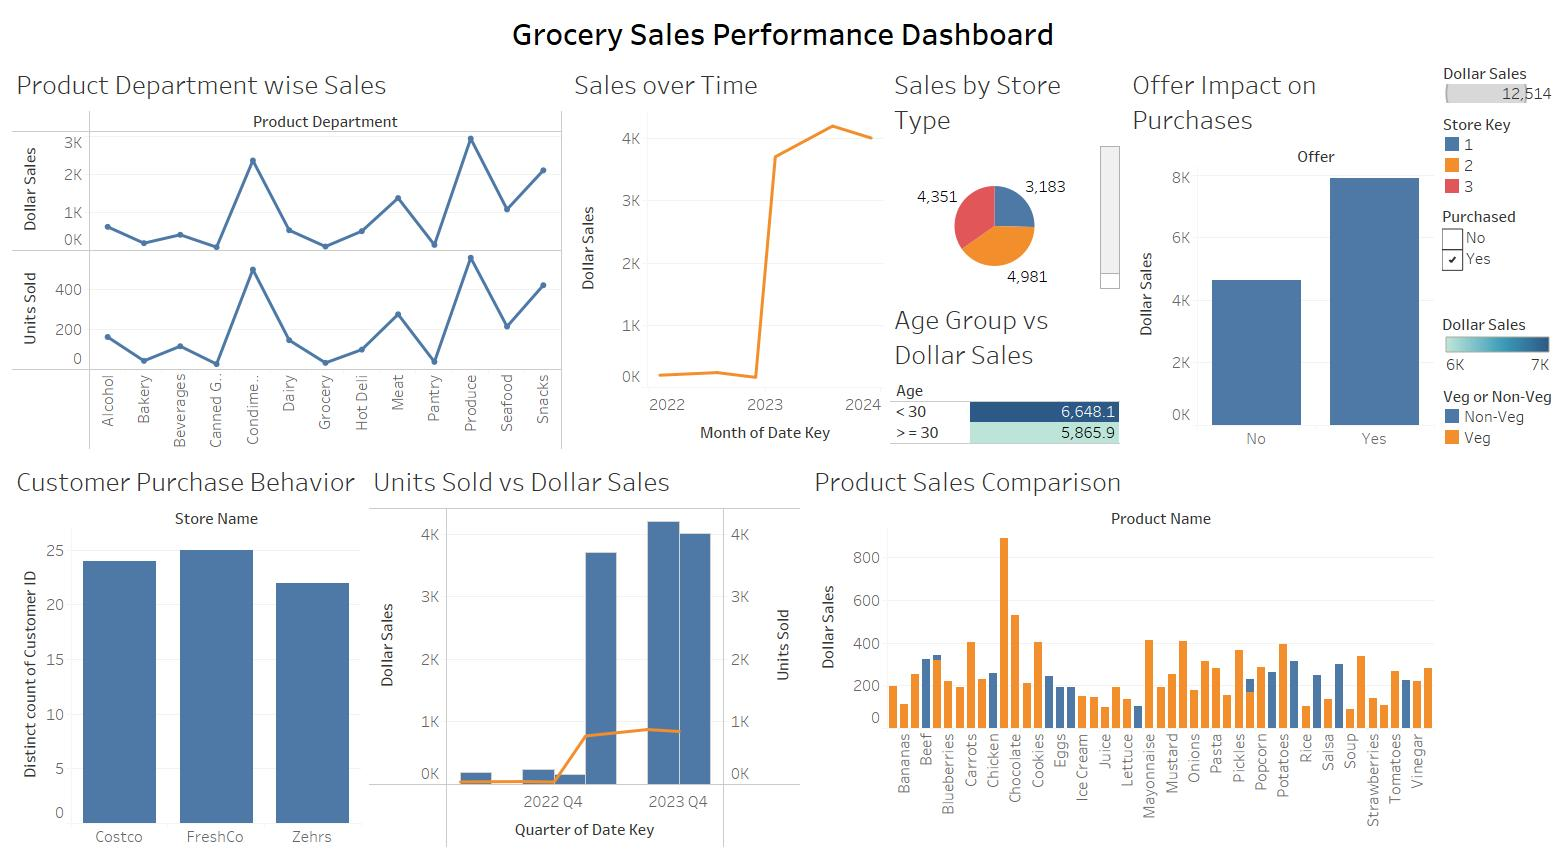

The dashboard page shown, as its layout file describes it:
{"tool":"tableau","page":{"name":"Grocery Sales Performance Dashboard","canvas":[1566,860],"ordinal":0},"visuals":[{"type":"title","box":[8,8,1550,49]},{"type":"worksheet","title":"Product Department wise Sales","mark":"Line","rows":["Dollar Sales","Units Sold"],"cols":["Product Department"],"box":[8,57,557.7,397.5]},{"type":"worksheet","title":"Sales over Time","mark":"Automatic","rows":["Dollar Sales"],"cols":["Date Key"],"box":[565.7,57,320.6,397.5]},{"type":"worksheet","title":"Sales by Store Type","mark":"Pie","box":[886.3,57,238,234.5]},{"type":"worksheet","title":"Offer Impact on Purchases","mark":"Automatic","rows":["Dollar Sales"],"cols":["Offer"],"box":[1124.3,57,313.7,397.5]},{"type":"legend","title":"Sales by Store Type","param":"[federated.0gllan61cf1jju1akws8505g9fg9].[sum:Dollar Sales:qk]","box":[1438,57,120,51]},{"type":"legend","title":"Sales by Store Type","param":"[federated.0gllan61cf1jju1akws8505g9fg9].[none:Store Key:ok]","box":[1438,108,120,93]},{"type":"filter","title":"Customer Purchase Behavior","param":"[federated.0gllan61cf1jju1akws8505g9fg9].[none:Purchased:nk]","box":[1438,201,120,105]},{"type":"worksheet","title":"Age Group vs Dollar Sales","mark":"Square","rows":["Age"],"box":[886.3,291.5,238,163]},{"type":"legend","title":"Age Group vs Dollar Sales","param":"[federated.0gllan61cf1jju1akws8505g9fg9].[sum:Dollar Sales:qk]","box":[1438,306,120,73]},{"type":"legend","title":"Product Sales Comparison","param":"[federated.0gllan61cf1jju1akws8505g9fg9].[none:Veg or Non-Veg:nk]","box":[1438,379,120,72]},{"type":"worksheet","title":"Customer Purchase Behavior","mark":"Automatic","rows":["Customer ID"],"cols":["Store Name"],"box":[8,454.5,357.4,397.5]},{"type":"worksheet","title":"Units Sold vs Dollar Sales","mark":"Bar","rows":["Dollar Sales","Units Sold"],"cols":["Date Key"],"box":[365.4,454.5,440.2,397.5]},{"type":"worksheet","title":"Product Sales Comparison","mark":"Automatic","rows":["Dollar Sales"],"cols":["Product Name"],"box":[805.6,454.5,632.4,397.5]}]}

Visuals, with their boxes in screenshot pixels (x1, y1, x2, y2), scaled from the page's 1566x860 canvas onto the 1566x860 screenshot:
title: locate(8, 8, 1558, 57)
"Product Department wise Sales" worksheet (Line marks): locate(8, 57, 566, 454)
"Sales over Time" worksheet: locate(566, 57, 886, 454)
"Sales by Store Type" worksheet (Pie marks): locate(886, 57, 1124, 292)
"Offer Impact on Purchases" worksheet: locate(1124, 57, 1438, 454)
"Sales by Store Type" legend: locate(1438, 57, 1558, 108)
"Sales by Store Type" legend: locate(1438, 108, 1558, 201)
"Customer Purchase Behavior" filter: locate(1438, 201, 1558, 306)
"Age Group vs Dollar Sales" worksheet (Square marks): locate(886, 292, 1124, 454)
"Age Group vs Dollar Sales" legend: locate(1438, 306, 1558, 379)
"Product Sales Comparison" legend: locate(1438, 379, 1558, 451)
"Customer Purchase Behavior" worksheet: locate(8, 454, 365, 852)
"Units Sold vs Dollar Sales" worksheet (Bar marks): locate(365, 454, 806, 852)
"Product Sales Comparison" worksheet: locate(806, 454, 1438, 852)
